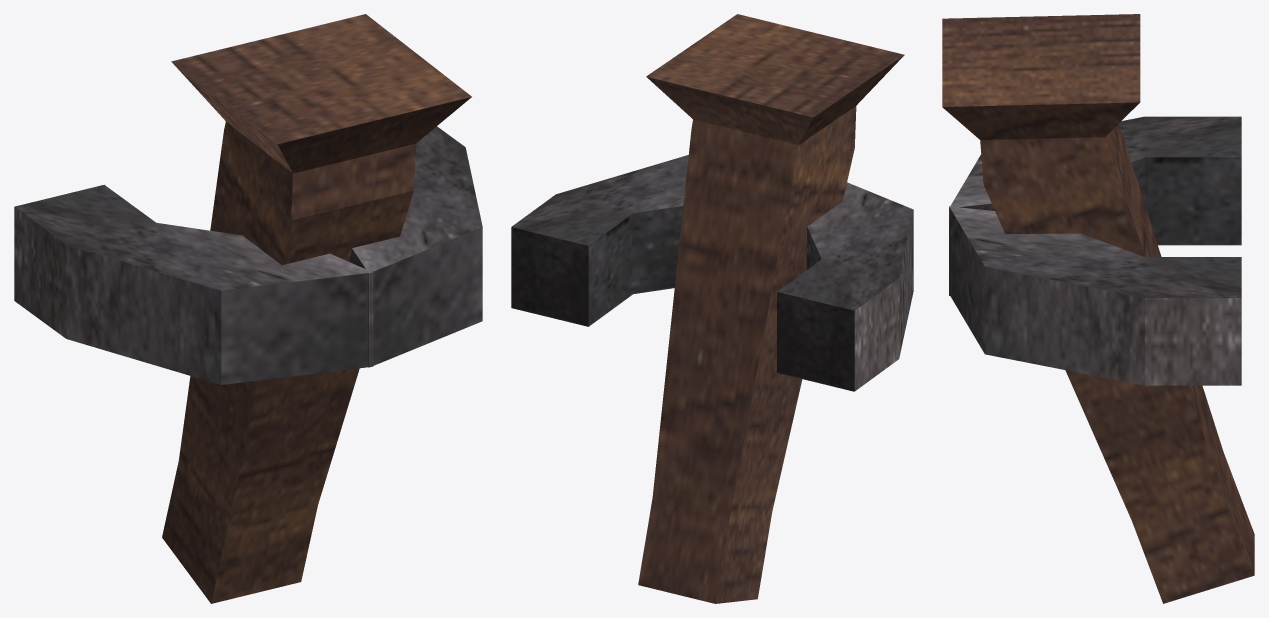
Rendered from WallCandle.fbx.
3 views of the same model, side by side, from view 1: azimuth 30°, elevation 25°; view 2: azimuth 150°, elevation 25°; view 3: azimuth 270°, elevation 25° (orthographic). The views are drawn at different scales.
Visible parts, largest first — view 1: Cube, Cube.001; view 2: Cube, Cube.001; view 3: Cube, Cube.001.
Boxes of the visible parts, x1,y1,x2,y2 form: Cube: (162, 14, 471, 603); Cube.001: (14, 126, 482, 384); Cube: (638, 14, 904, 603); Cube.001: (511, 155, 913, 391); Cube: (942, 14, 1254, 603); Cube.001: (949, 116, 1241, 385).
Size of the model in its own units: 887 by 1198 by 646.
